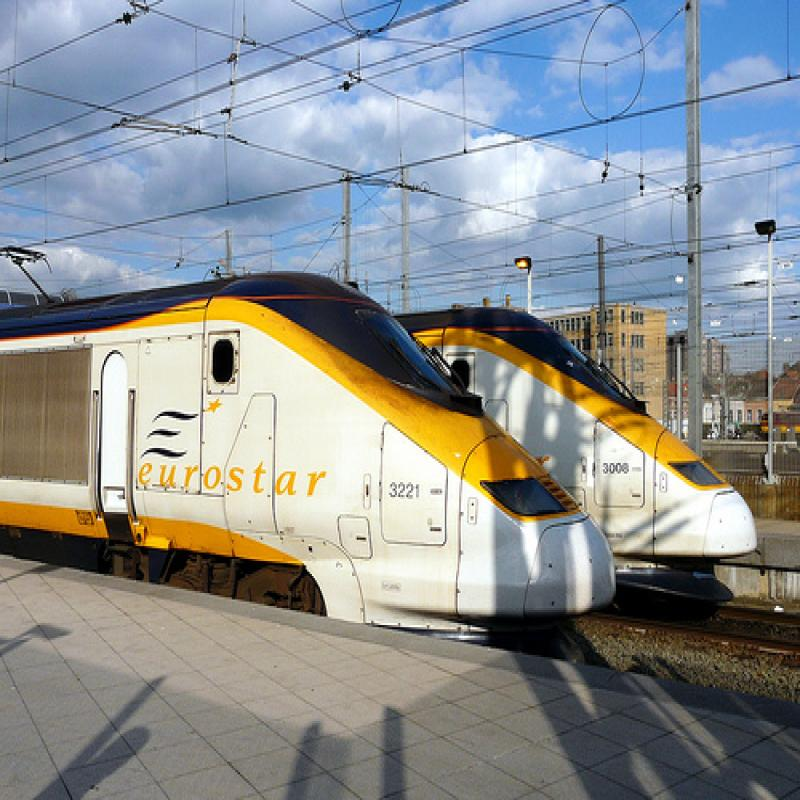train: (1, 272, 622, 647), (385, 306, 755, 624)
